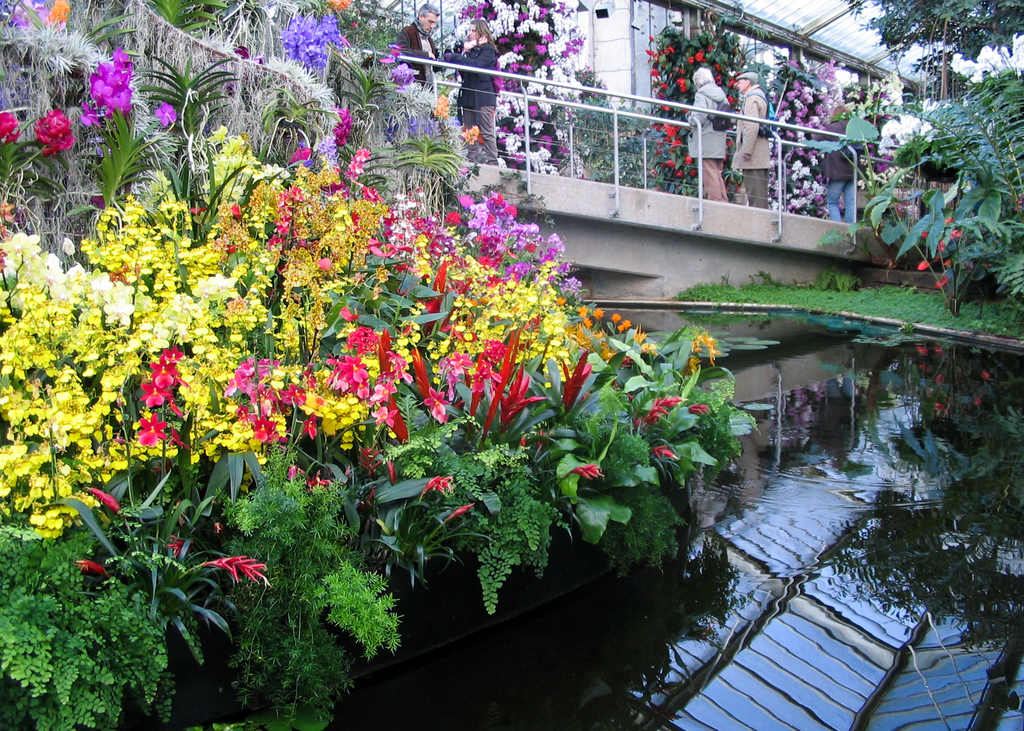Tree: (0, 0, 748, 730), (766, 0, 1023, 338), (826, 72, 1023, 312), (750, 57, 896, 215), (653, 8, 764, 201), (840, 0, 1023, 111)
